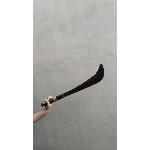Golok: (42, 62, 109, 102)
